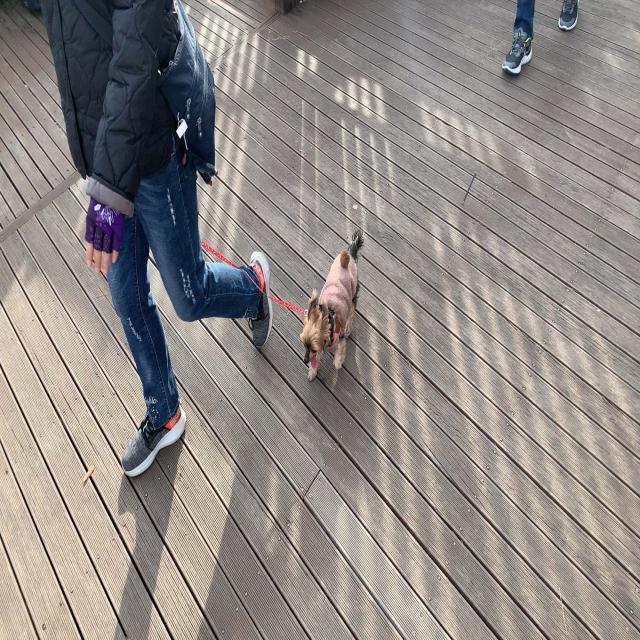Leashed_Dog: (174, 192, 366, 388)
